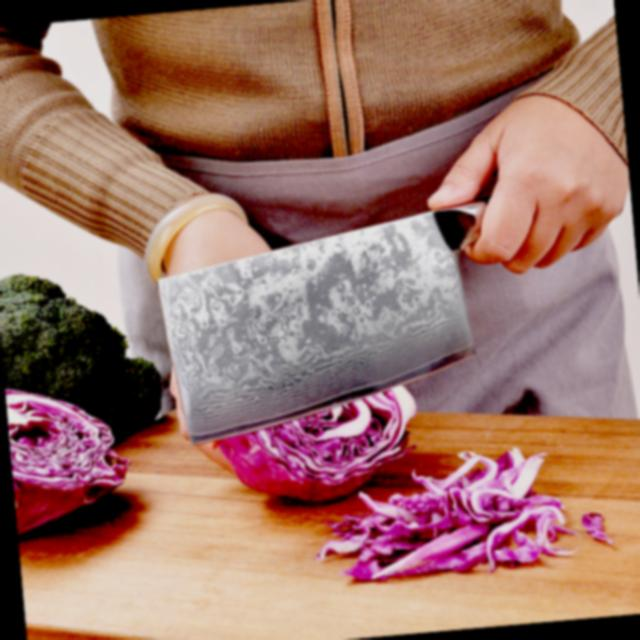cleaver: (133, 104, 640, 423)
